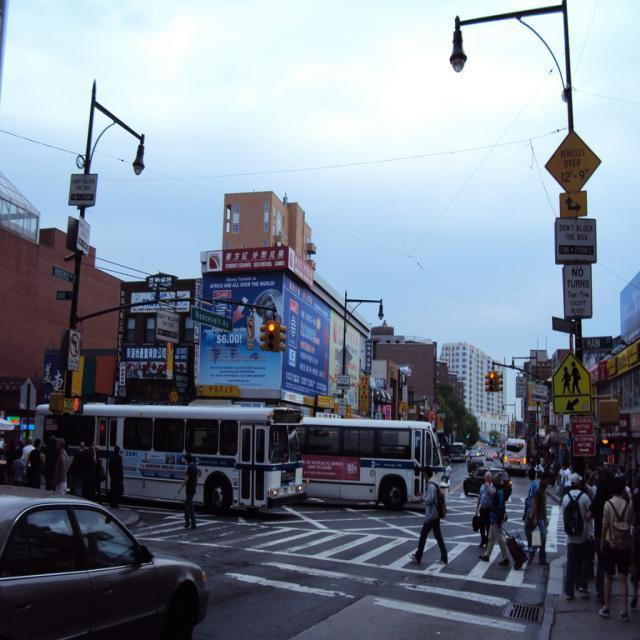traffic light: (267, 322, 278, 348), (488, 370, 495, 390)
